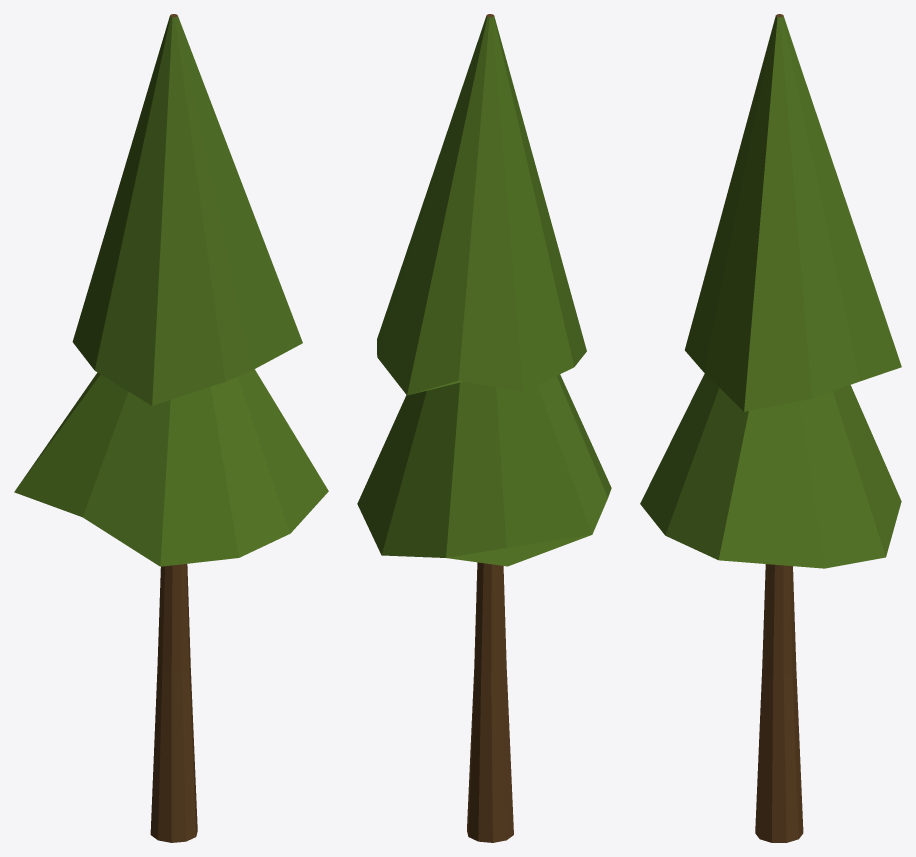
File: Big_Tree_Leafs_Green.fbx
3 renders of one model, left to right at view 1: azimuth 30°, elevation 25°; view 2: azimuth 150°, elevation 25°; view 3: azimuth 270°, elevation 25°, orthographic.
Visible parts, largest first — view 1: Cylinder.002; view 2: Cylinder.002; view 3: Cylinder.002.
Part boxes in pixels (left/top/right/bottom): Cylinder.002: left=14, top=14, right=328, bottom=842; Cylinder.002: left=357, top=14, right=611, bottom=842; Cylinder.002: left=640, top=14, right=901, bottom=842.
Size of the model in its own units: 476 by 1454 by 422.
1 material, 1 textured.
